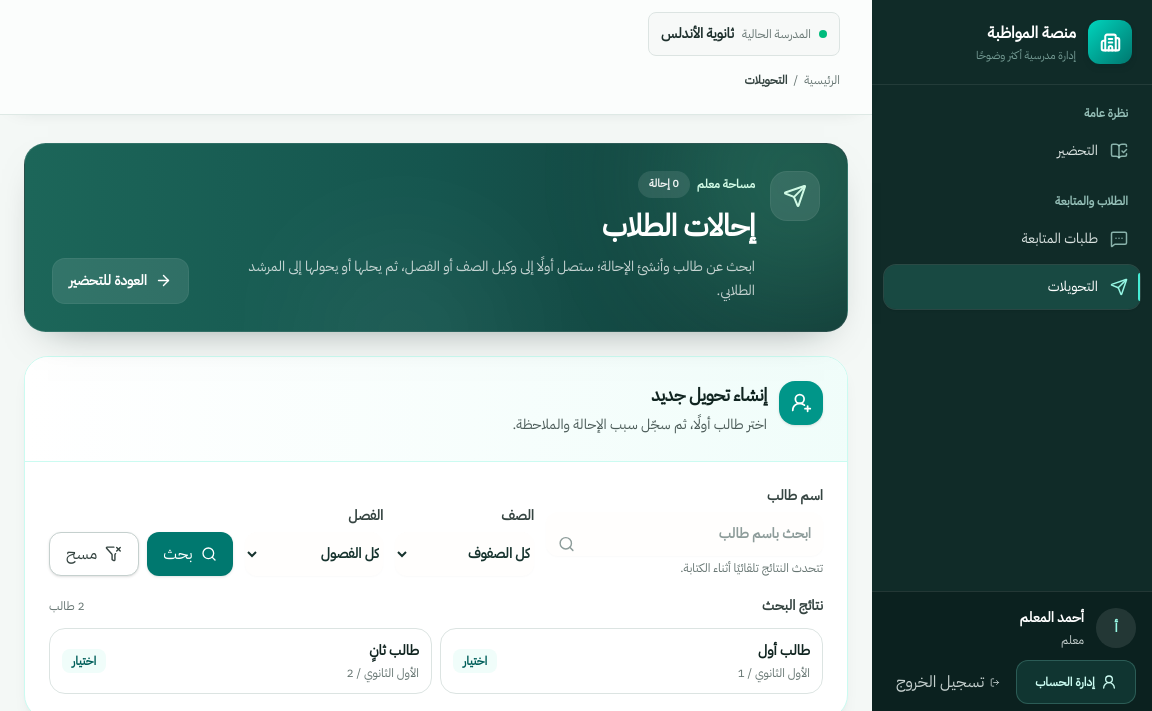
Test: referrals (Phase 13) › offers adding a note when a duplicate open case exists
The image size is (1152, 711).
Click the button with test id "referral-candidate-11" at (784, 650), box [440, 628, 823, 694]
(page scrolled)
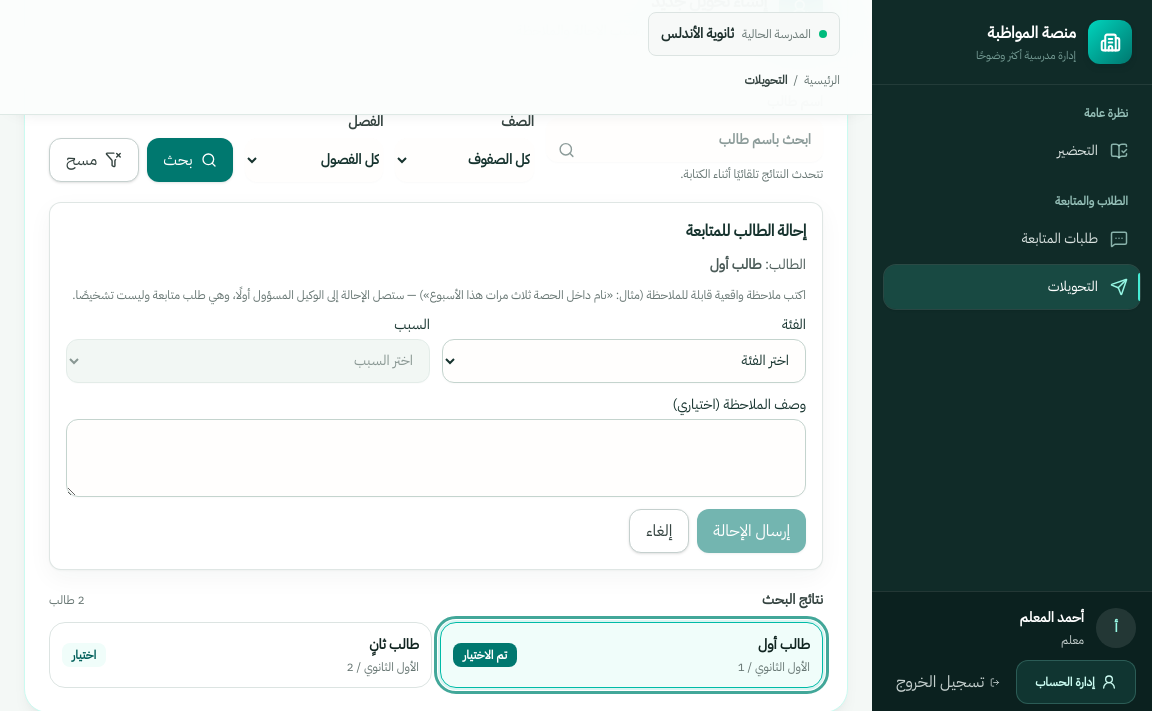
Select "الأداء الدراسي" in the dropdown with test id "referral-category" at (624, 360), box [442, 338, 806, 382]
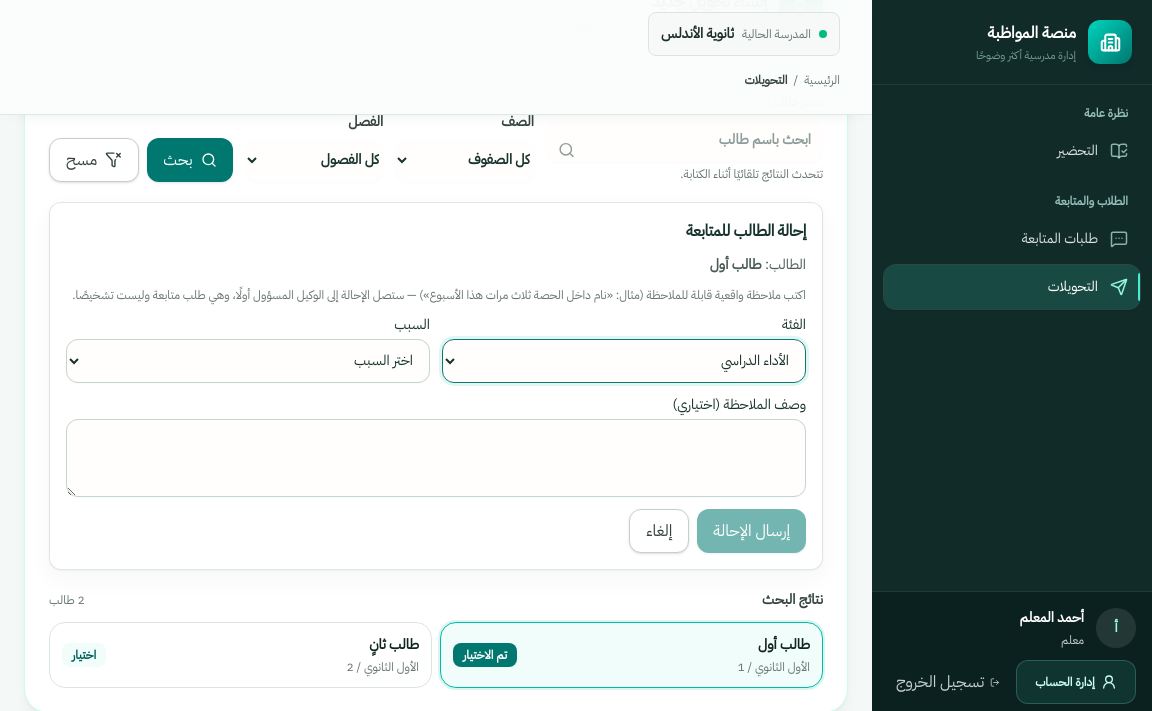
Select "ضعف دراسي" in the dropdown with test id "referral-reason" at (248, 360), box [66, 338, 430, 382]
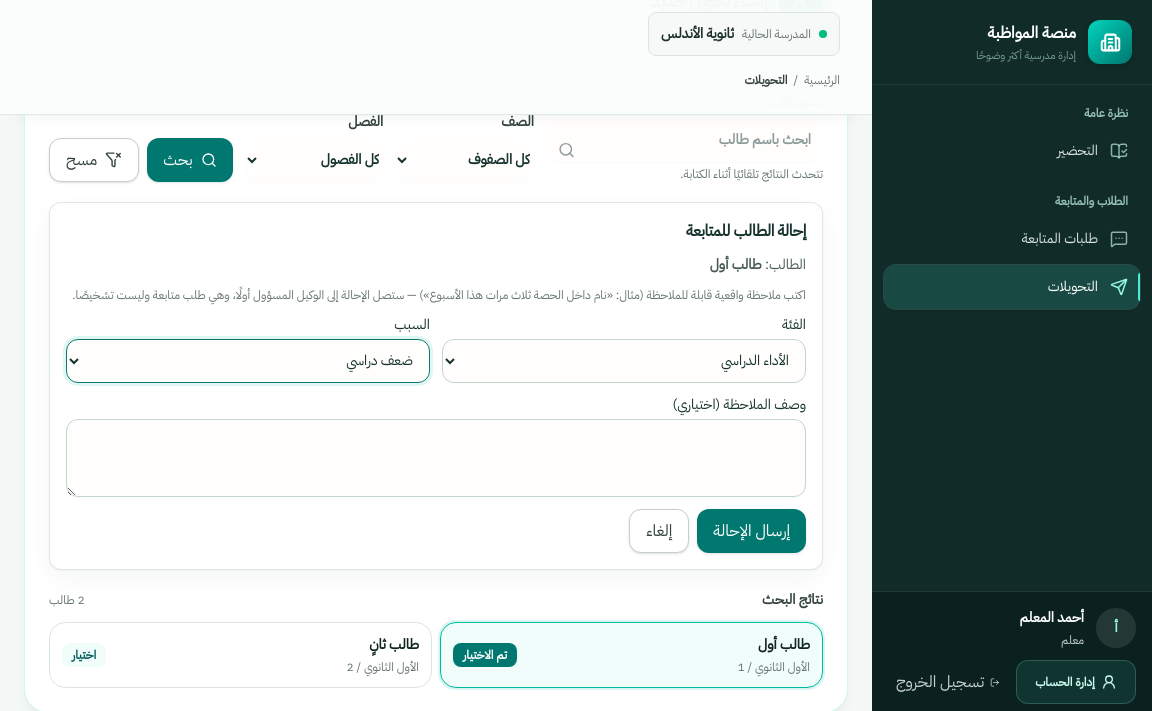
Click the button with test id "save-referral" at (752, 530), box [697, 508, 806, 552]
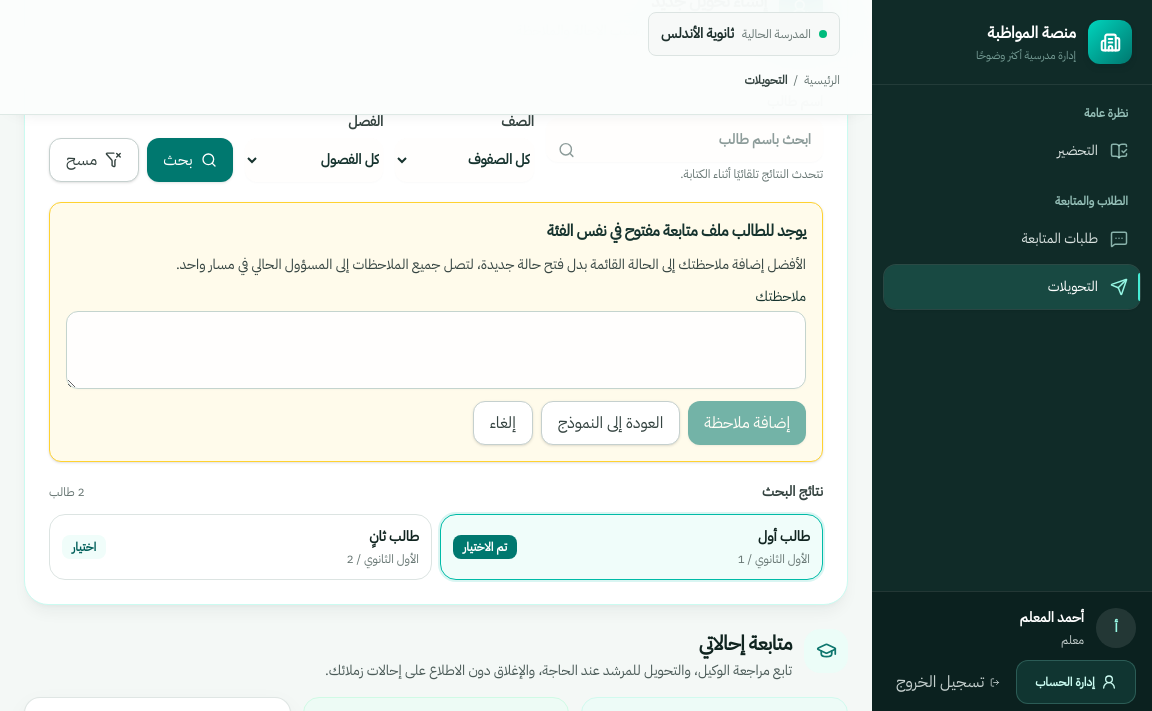
Expected: the element with test id "referral-duplicate" shows "يوجد للطالب ملف متابعة مفتوح في نفس الفئة", [49, 202, 823, 462]
Type "نفس الملاحظة في حصتي." into the text box with test id "duplicate-notes" at (436, 350), box [66, 310, 806, 388]
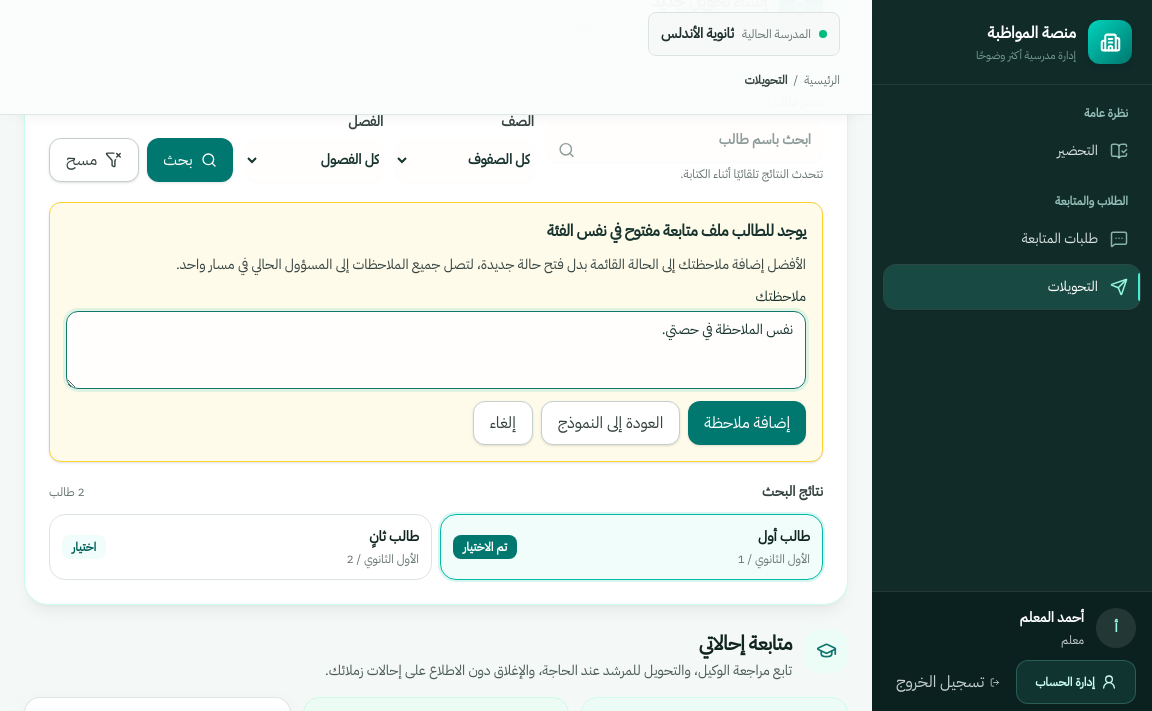
Click the button with test id "add-contribution" at (747, 422), box [688, 400, 806, 444]
(page scrolled)
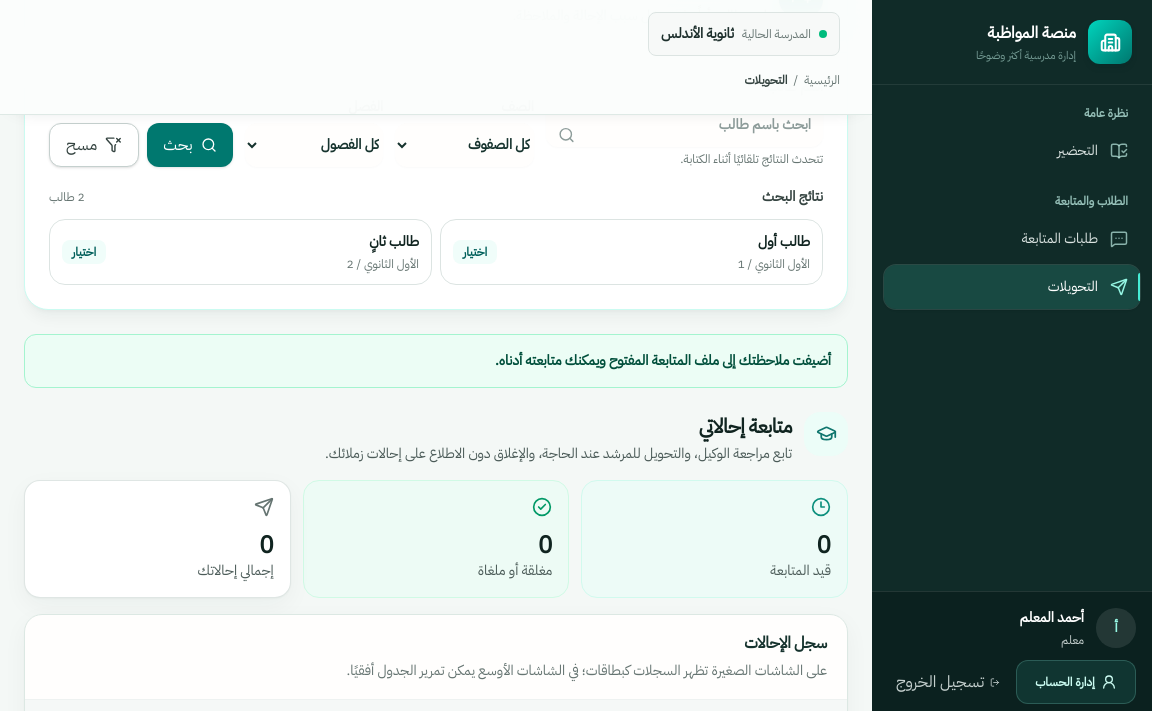
Expected: the message with test id "referral-done" shows "أضيفت ملاحظتك", [495, 350, 831, 370]
